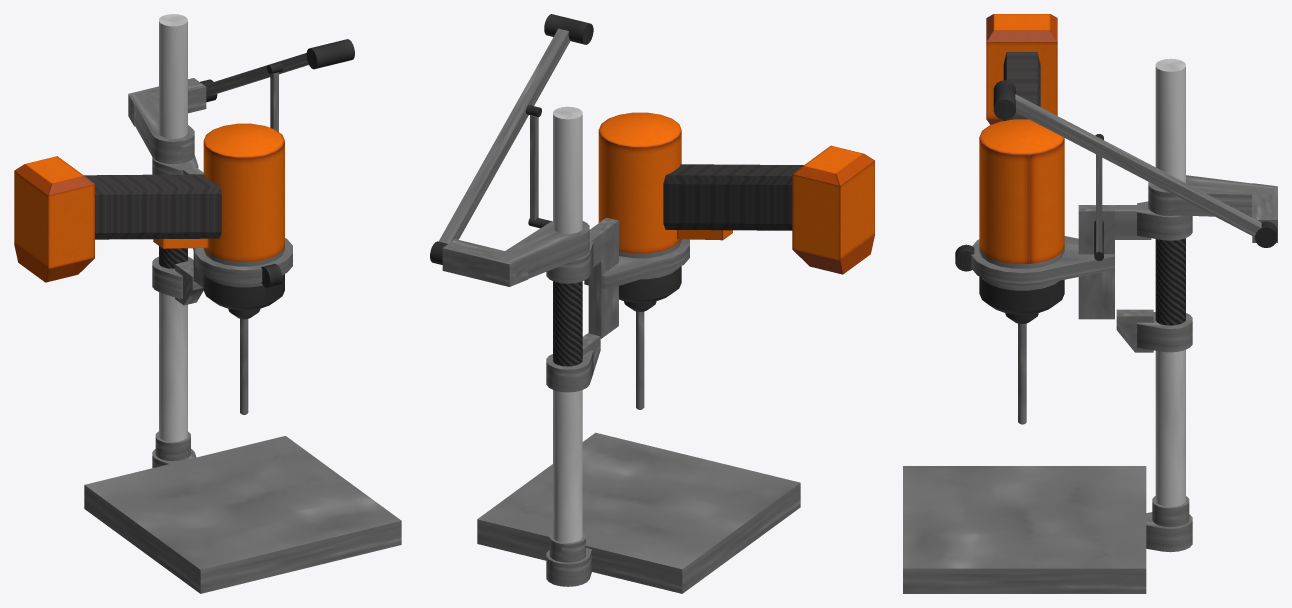
The model's file is DrillPress.FBX.
3 views of the same model, side by side, from view 1: azimuth 30°, elevation 25°; view 2: azimuth 150°, elevation 25°; view 3: azimuth 270°, elevation 25° (orthographic). The views are drawn at different scales.
Parts seen in each view (by area): view 1: Box007, Cylinder001, Box003, Cylinder004, Box002, Cylinder010, Cylinder002, Box008, Cylinder012, Box010, Cylinder006, Cylinder009 (+5 smaller); view 2: Box007, Cylinder001, Cylinder004, Box003, Box002, Box008, Box005, Cylinder010, Box010, Cylinder002, Cylinder006, Cylinder007 (+5 smaller); view 3: Box007, Cylinder001, Cylinder004, Box003, Box008, Box005, Cylinder002, Cylinder010, Box002, Cylinder006, Cylinder005, Cylinder007 (+6 smaller).
Boxes of the visible parts, box(x1,y1,x2,y2) form: Box007: box(84, 436, 401, 593); Cylinder001: box(203, 123, 284, 319); Box003: box(14, 156, 94, 282); Cylinder004: box(159, 14, 187, 441); Box002: box(84, 174, 221, 239); Cylinder010: box(130, 91, 194, 164); Cylinder002: box(193, 238, 292, 283); Box008: box(204, 53, 308, 96); Cylinder012: box(306, 39, 354, 69); Box010: box(128, 78, 206, 126); Cylinder006: box(152, 256, 193, 299); Cylinder009: box(240, 319, 248, 414); Box007: box(477, 432, 800, 593); Cylinder001: box(598, 112, 681, 311); Cylinder004: box(553, 106, 582, 542); Box003: box(792, 145, 874, 274); Box002: box(663, 164, 803, 230); Box008: box(438, 28, 570, 243); Box005: box(588, 217, 618, 338); Cylinder010: box(494, 221, 589, 278); Box010: box(442, 239, 528, 286); Cylinder002: box(584, 239, 689, 289); Cylinder006: box(546, 350, 593, 392); Cylinder007: box(546, 548, 591, 586); Box007: box(903, 466, 1146, 593); Cylinder001: box(979, 119, 1064, 323); Cylinder004: box(1155, 58, 1185, 506); Box003: box(986, 14, 1057, 124); Box008: box(1015, 94, 1261, 237); Box005: box(1078, 205, 1151, 319); Cylinder002: box(971, 236, 1114, 286); Cylinder010: box(1148, 175, 1273, 217); Box002: box(1003, 52, 1040, 120); Cylinder006: box(1137, 312, 1192, 352); Cylinder005: box(1137, 201, 1192, 240); Cylinder007: box(1146, 512, 1192, 552).
Size of the model in its own units: 0.2225 by 0.3189 by 0.2199.
Materials: 1 (1 with a texture image).
